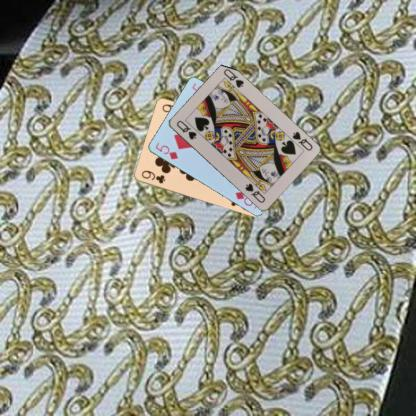5d: (153, 140, 179, 160)
9c: (139, 168, 166, 185)
Qs: (289, 129, 314, 152), (174, 118, 198, 141)
